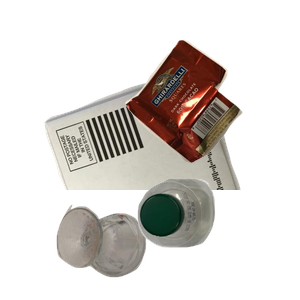glass: (54, 202, 193, 300)
paper: (42, 68, 275, 248)
plastic: (135, 176, 300, 300)
trash: (123, 37, 300, 192)
